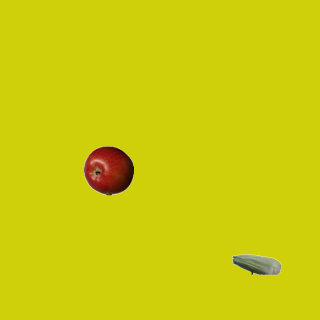Apple Braeburn: (83, 145, 133, 195)
Corn Husk: (231, 239, 281, 289)
